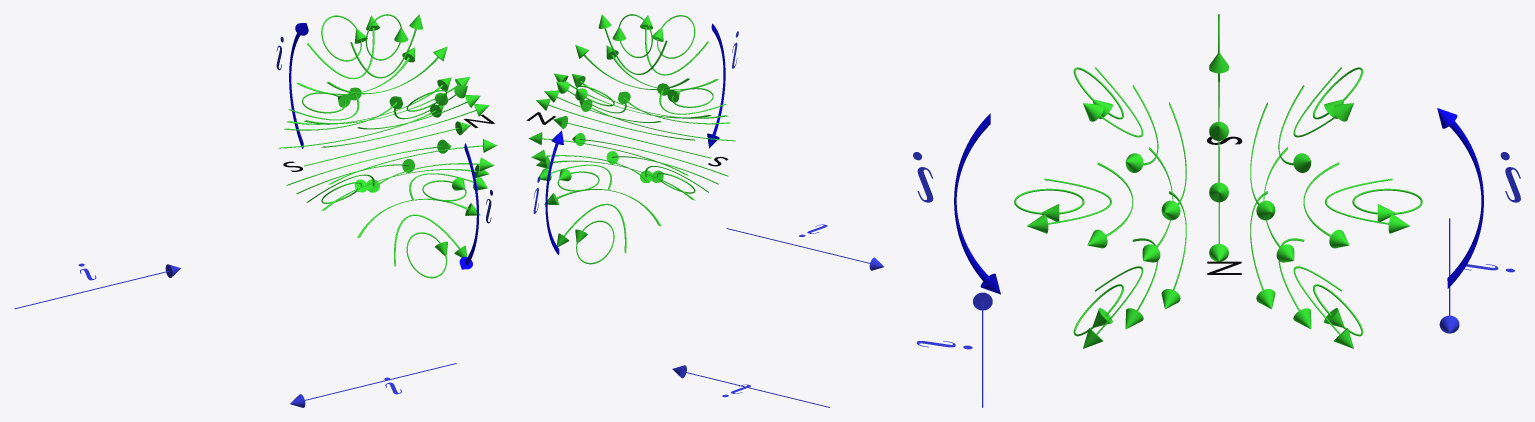
File: exp2 lineas corriente.glb
3 views of the same model, side by side, from view 1: azimuth 30°, elevation 25°; view 2: azimuth 150°, elevation 25°; view 3: azimuth 270°, elevation 25° (orthographic). The views are drawn at different scales.
Parts seen in each view (by area): view 1: no part large enough to name; view 2: NurbsCurve.023, NurbsCurve.022; view 3: NurbsCurve.022, NurbsCurve.023.
Boxes of the visible parts, x1,y1,x2,y2 form: NurbsCurve.023: (545,141,559,254); NurbsCurve.022: (711,23,725,135); NurbsCurve.022: (954,113,990,283); NurbsCurve.023: (1447,121,1483,288).
Bounding box in the file's own units: 19.06 × 13.43 × 18.12.
